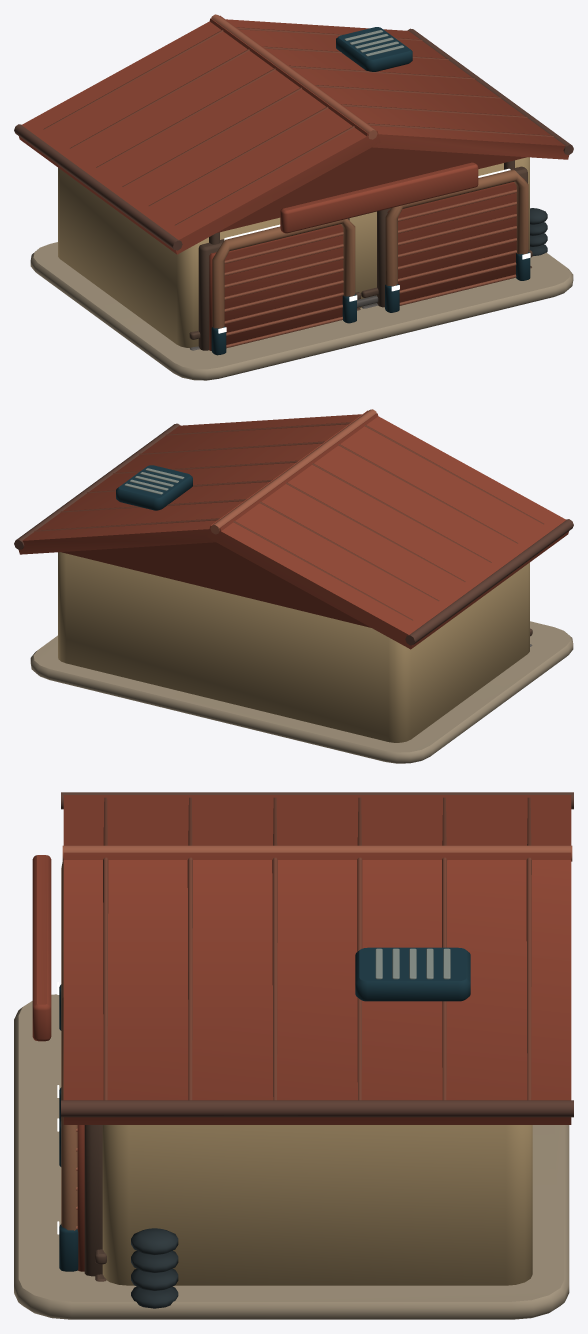
File: valley_workshop.glb
The picture shows the model from 3 angles, top to bottom: view 1: azimuth 30°, elevation 25°; view 2: azimuth 150°, elevation 25°; view 3: azimuth 270°, elevation 25°; orthographic projection. The views are drawn at different scales.
Parts seen in each view (by area): view 1: Workshop; view 2: Workshop; view 3: Workshop.
Part boxes in pixels (x1,y1,x2,y2): Workshop: (14,14,573,380); Workshop: (14,409,573,763); Workshop: (14,792,573,1319).
Size of the model in its own units: 8.7 by 4.09 by 6.51.
